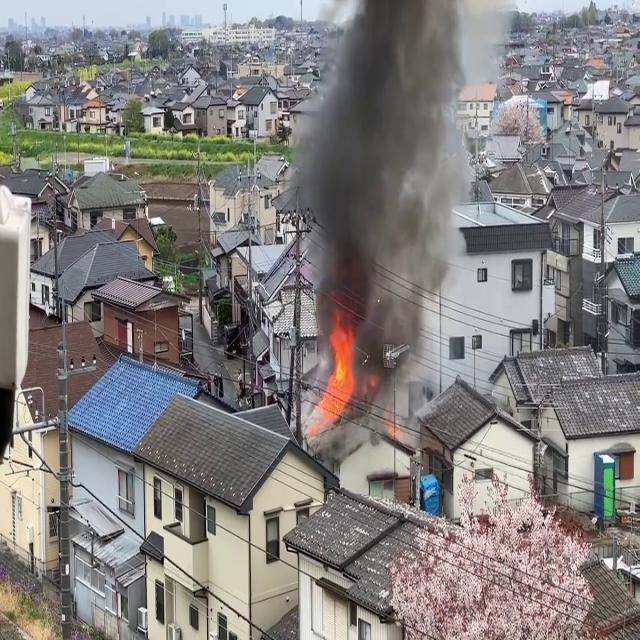Fire: (308, 314, 358, 432)
Smoke: (284, 0, 480, 395)
